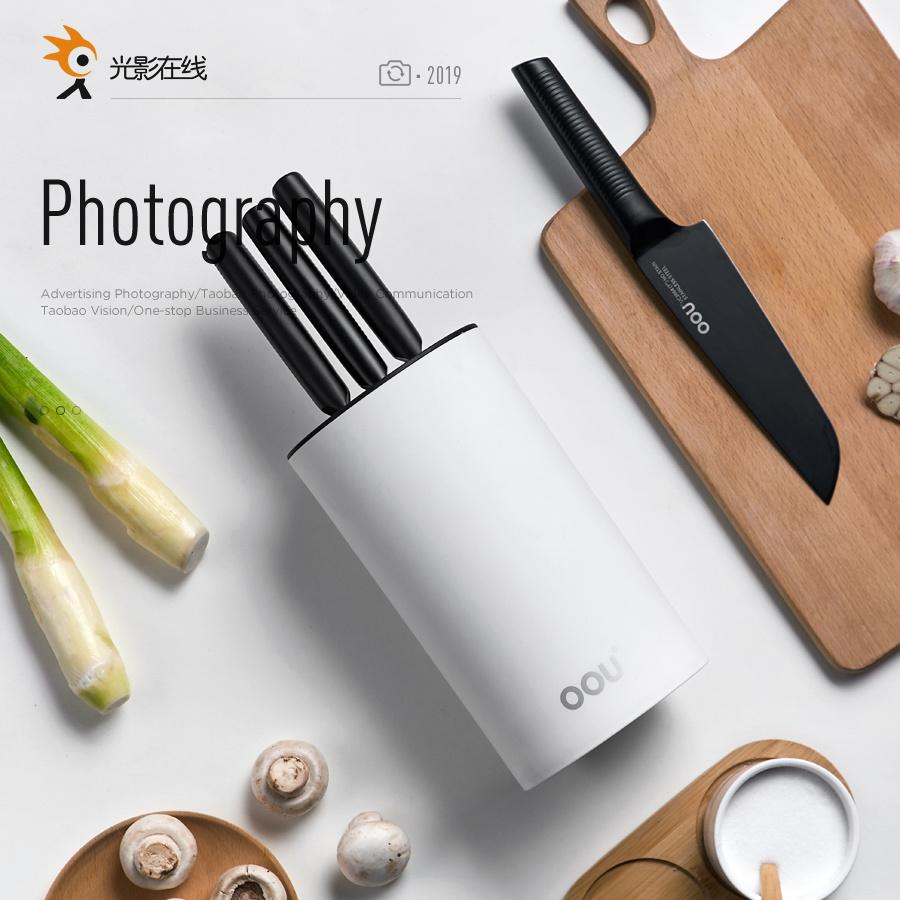knife: (494, 37, 865, 523)
